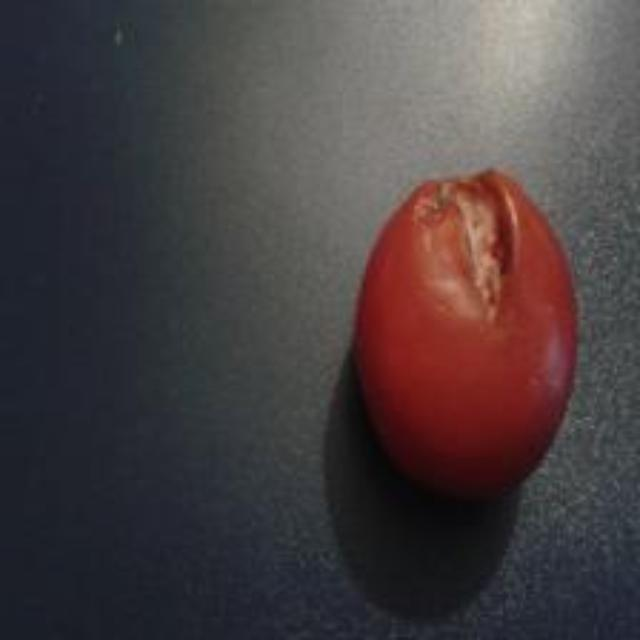defect: (345, 158, 585, 508)
